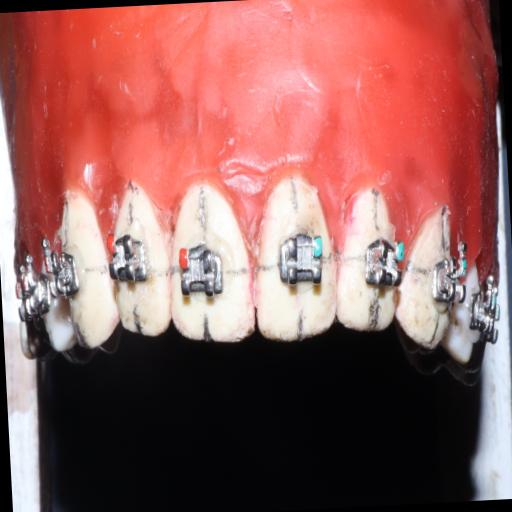incorrect_brace: (176, 239, 228, 307), (276, 228, 328, 294)
